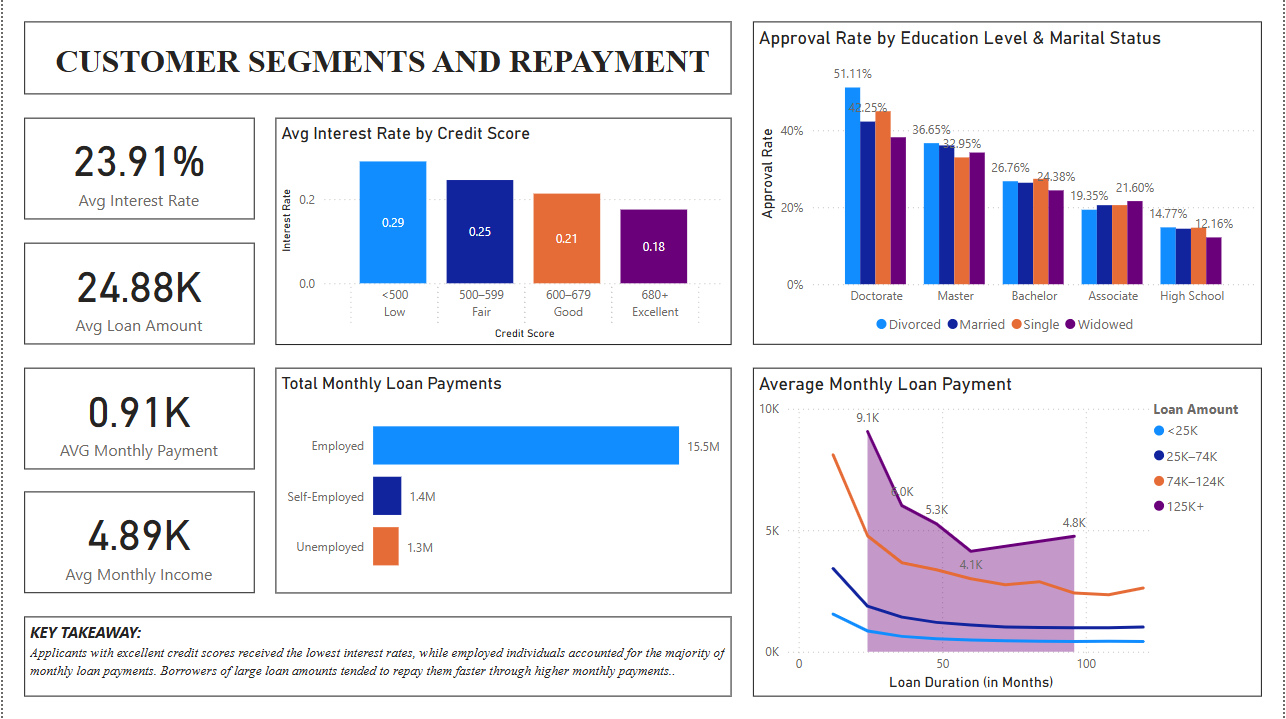

The dashboard page shown, as its layout file describes it:
{"tool":"powerbi","page":{"name":"Customer Segments & Repayment","canvas":[1280,720],"ordinal":2},"visuals":[{"type":"clusteredColumnChart","title":" Approval Rate by Education Level & Marital Status","fields":{"Y":["Loan.Approval Rate"],"Category":["Loan.EducationLevel"],"Series":["Loan.MaritalStatus"]},"box":[750,22.9,508.6,322.9],"z":0},{"type":"columnChart","title":"Avg Interest Rate by Credit Score","fields":{"Category":["Loan.CreditScoreTier2","Loan.CreditScoreTier Words"],"Y":["Avg(Loan.InterestRate)"],"Series":["Loan.CreditScoreTier2"]},"box":[272.9,118.6,455.7,227.1],"z":1000},{"type":"lineChart","title":"Average Monthly Loan Payment","fields":{"Y":["Avg(Loan.MonthlyLoanPayment)"],"Category":["Loan.LoanDuration"],"Series":["Loan.LoanAmountGroup2"]},"box":[750,368.6,508.6,328.6],"z":2000},{"type":"barChart","title":"Total Monthly Loan Payments","fields":{"Category":["Loan.EmploymentStatus"],"Y":["Sum(Loan.MonthlyLoanPayment)"],"Series":["Loan.EmploymentStatus"]},"box":[272.9,368.6,455.7,225.7],"z":3000},{"type":"card","title":"Average ","fields":{"Values":["Avg(Loan.InterestRate)"]},"box":[21.4,118.6,230,101.4],"z":4000},{"type":"card","fields":{"Values":["Avg(Loan.MonthlyLoanPayment)"]},"box":[21.4,368.6,230,101.4],"z":5000},{"type":"card","fields":{"Values":["Avg(Loan.LoanAmount)"]},"box":[21.4,244.3,230,101.4],"z":6000},{"type":"textbox","box":[21.4,22.9,707.1,72.9],"z":7000},{"type":"textbox","box":[21.4,617.1,707.1,80],"z":10000},{"type":"card","fields":{"Values":["Avg(Loan.MonthlyIncome)"]},"box":[21.4,492.9,230,101.4],"z":11000}]}

Visuals, with their boxes in screenshot pixels (x1, y1, x2, y2), scaled from the page's 1280x720 canvas onto the 1286x719 screenshot:
" Approval Rate by Education Level & Marital Status" clusteredColumnChart: bbox(754, 23, 1264, 345)
"Avg Interest Rate by Credit Score" columnChart: bbox(274, 118, 732, 345)
"Average Monthly Loan Payment" lineChart: bbox(754, 368, 1264, 696)
"Total Monthly Loan Payments" barChart: bbox(274, 368, 732, 593)
"Average " card: bbox(22, 118, 253, 220)
card - Avg(Loan.MonthlyLoanPayment): bbox(22, 368, 253, 469)
card - Avg(Loan.LoanAmount): bbox(22, 244, 253, 345)
textbox: bbox(22, 23, 732, 96)
textbox: bbox(22, 616, 732, 696)
card - Avg(Loan.MonthlyIncome): bbox(22, 492, 253, 593)
